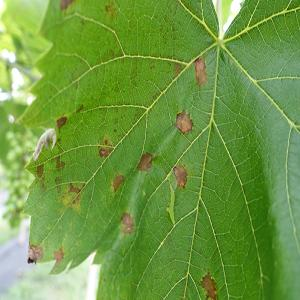Folha: (14, 0, 299, 298)
Fungo: (32, 126, 56, 164), (200, 268, 218, 300), (174, 108, 194, 134), (193, 56, 207, 86), (27, 241, 43, 264), (97, 136, 113, 158), (173, 164, 187, 188), (136, 151, 152, 171), (120, 212, 134, 234), (110, 172, 124, 192), (53, 245, 63, 263), (56, 116, 67, 132), (98, 146, 111, 158), (35, 163, 44, 178), (68, 183, 80, 194)
